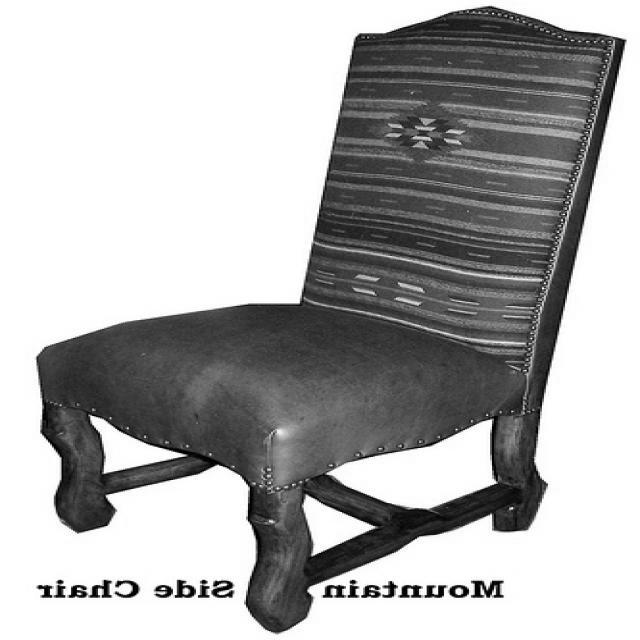chair: (34, 6, 626, 632)
